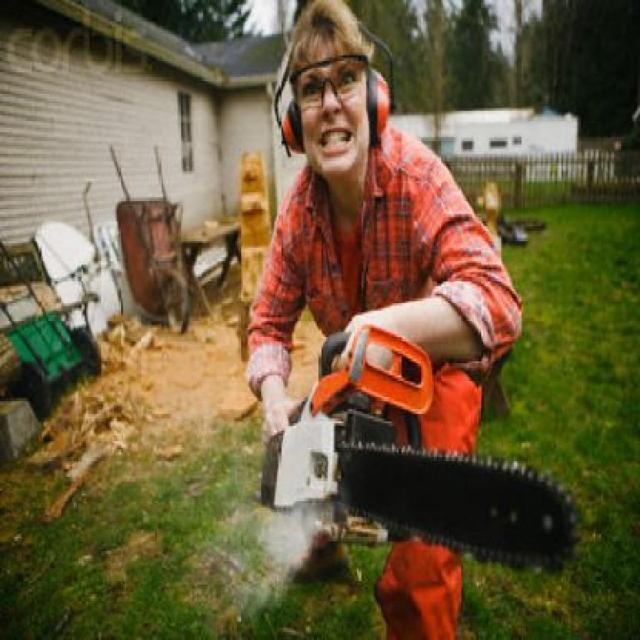Chainsaw: (259, 324, 583, 574)
